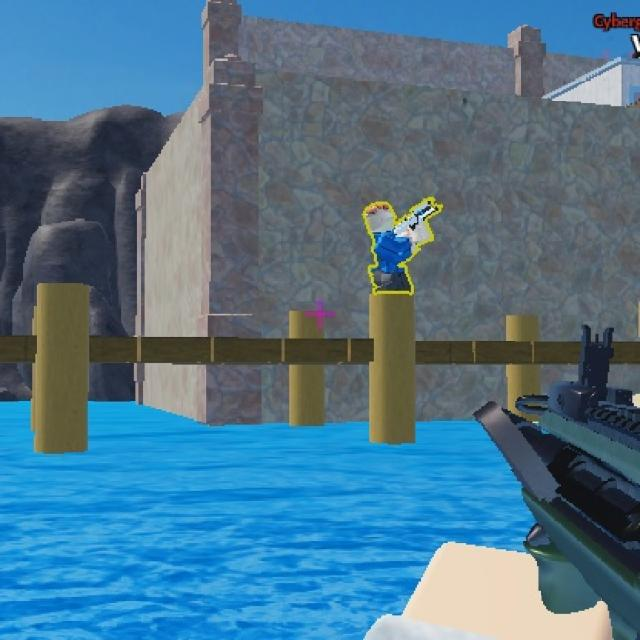player: (361, 194, 415, 292)
